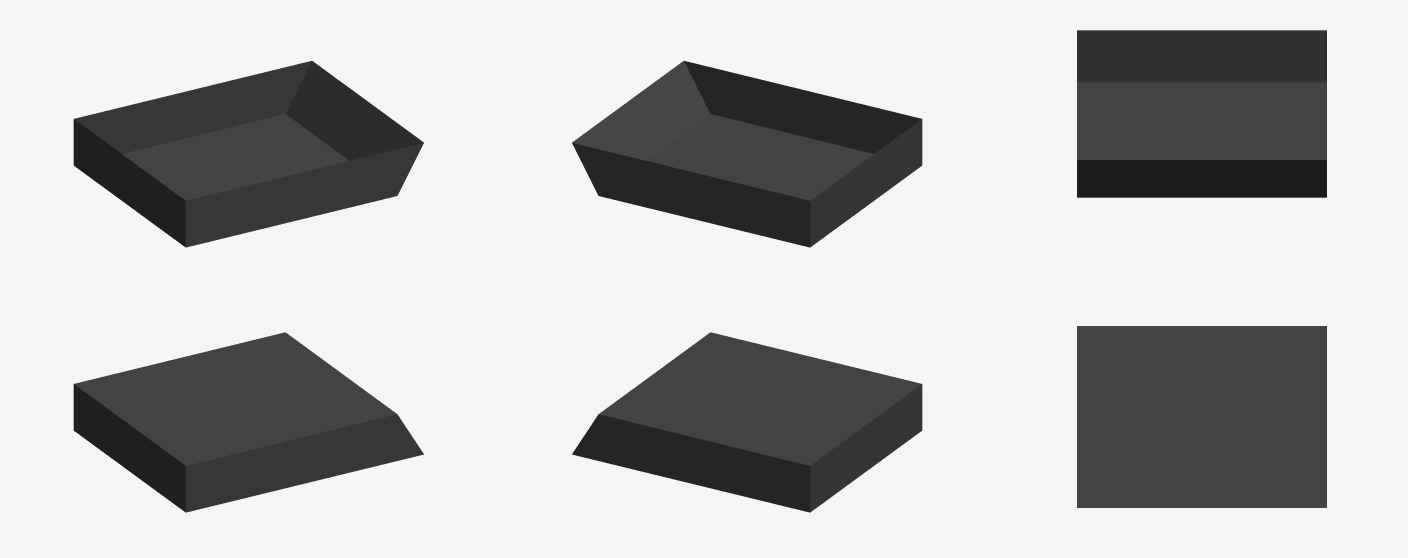
The model's file is Swi_MenBaShou2_on.fbx.
The picture shows the model from 3 angles, left to right: view 1: azimuth 30°, elevation 25°; view 2: azimuth 150°, elevation 25°; view 3: azimuth 270°, elevation 25°; orthographic projection. The views are drawn at different scales.
Parts seen in each view (by area): view 1: Box004; view 2: Box004; view 3: Box004.
Part boxes in pixels (x1=…): Box004: x1=73, y1=61, x2=423, y2=512; Box004: x1=572, y1=61, x2=922, y2=512; Box004: x1=1077, y1=30, x2=1326, y2=507.
Size of the model in its own units: 1 by 1.48 by 1.
